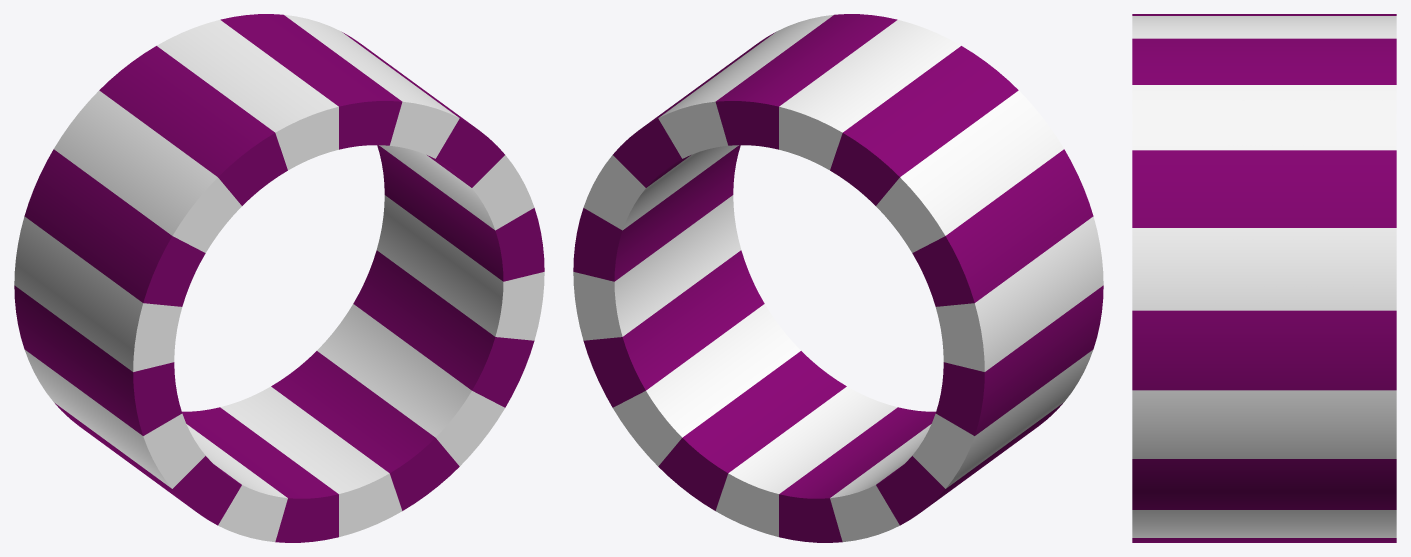
File: Rotating-Platform.fbx
The picture shows the model from 3 angles, left to right: view 1: azimuth 30°, elevation 25°; view 2: azimuth 150°, elevation 25°; view 3: azimuth 270°, elevation 25°; orthographic projection. The views are drawn at different scales.
Visible parts, largest first — view 1: Tube002; view 2: Tube002; view 3: Tube002.
Boxes of the visible parts, box(x1,y1,x2,y2) form: Tube002: box(14, 14, 544, 542); Tube002: box(573, 14, 1103, 542); Tube002: box(1132, 14, 1396, 542).
Bounding box in the file's own units: 0.2 × 0.2 × 0.1.
